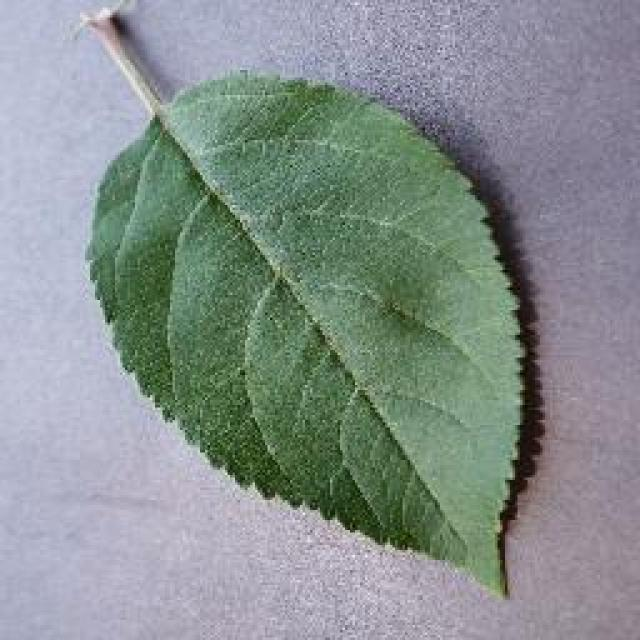apple healthy: (75, 0, 545, 600)
